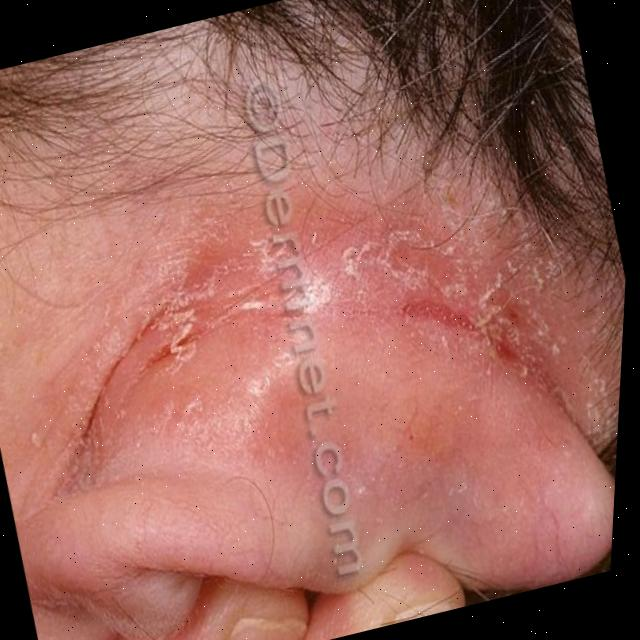Eczema: (113, 126, 523, 392)
